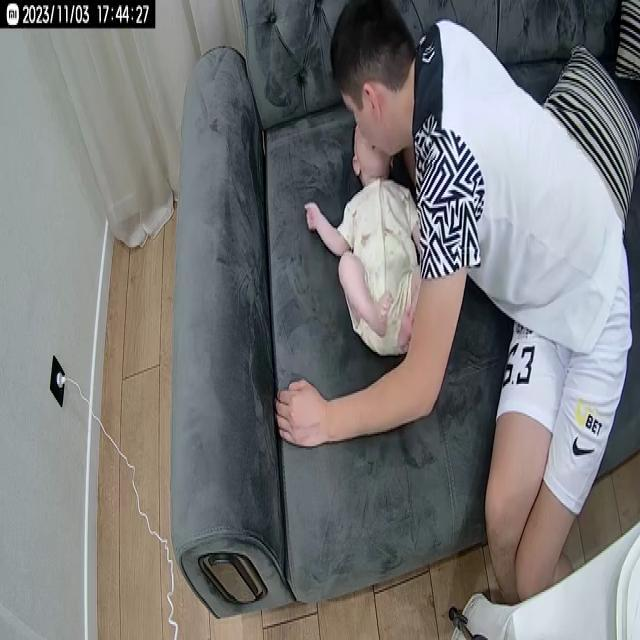baby: (304, 112, 431, 363)
